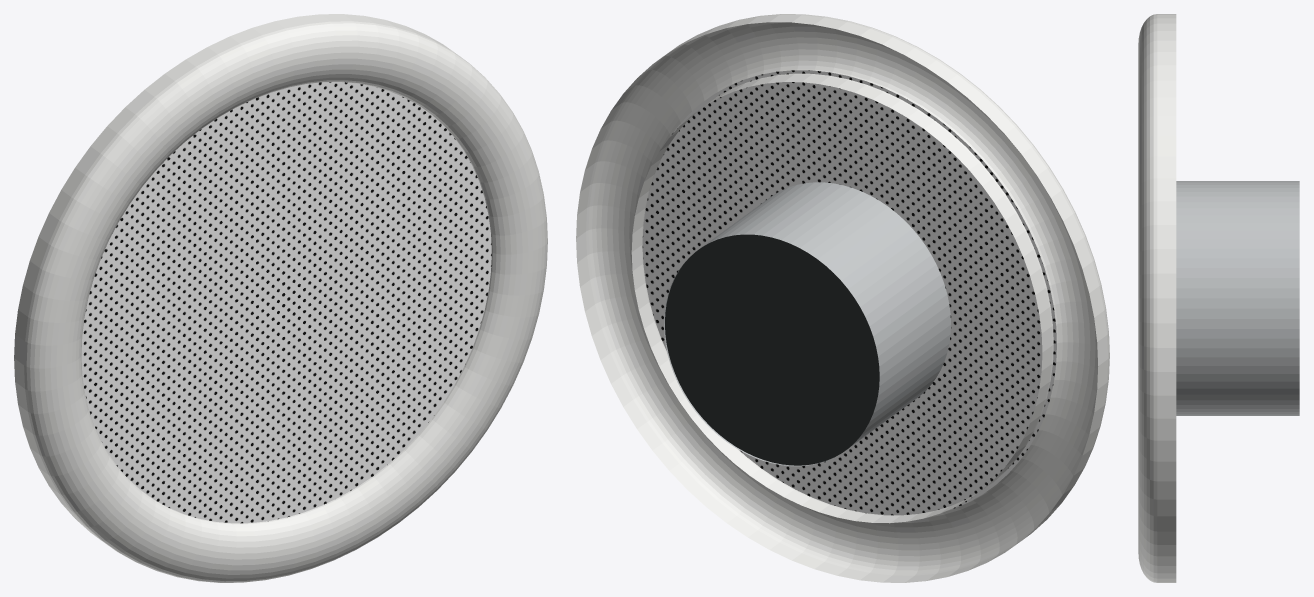
File: edcf-round.glb
3 views of the same model, side by side, from view 1: azimuth 30°, elevation 25°; view 2: azimuth 150°, elevation 25°; view 3: azimuth 270°, elevation 25° (orthographic). The views are drawn at different scales.
Parts seen in each view (by area): view 1: Profile_piastra.006, Profile_anello.005; view 2: Profile_anello.005, Profile_piastra.006, Interno.013, Collare.012; view 3: Collare.012, Profile_anello.005.
Part boxes in pixels (x1,y1,x2,y2): Profile_piastra.006: (81,82,491,523); Profile_anello.005: (14,14,547,582); Profile_anello.005: (576,14,1109,582); Profile_piastra.006: (642,70,1056,515); Interno.013: (665,234,879,465); Collare.012: (664,182,950,466); Collare.012: (1176,181,1299,415); Profile_anello.005: (1138,14,1176,582).
Bounding box in the file's own units: 0.3 × 0.3 × 0.085.
Materials: 4 (1 with a texture image).
